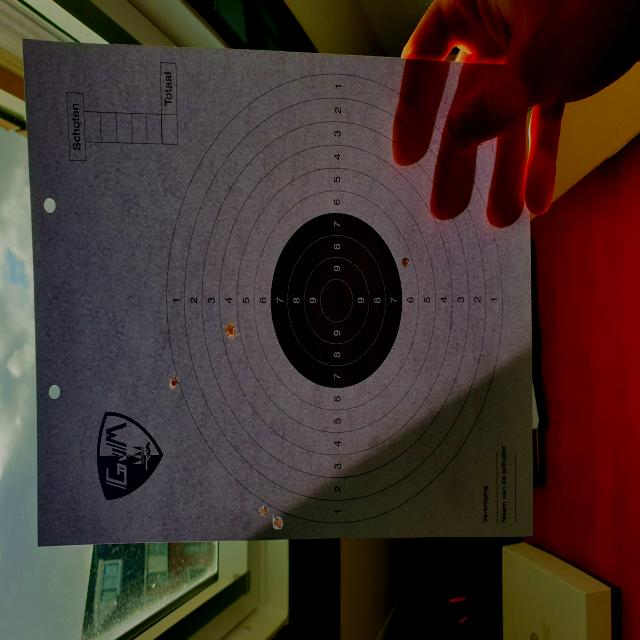0: (272, 514, 284, 530), (258, 504, 269, 518)
1: (168, 374, 180, 390)
4: (223, 322, 240, 341)
6: (401, 257, 410, 268)
Target: (163, 70, 504, 525)
black_contour: (270, 213, 402, 387)
